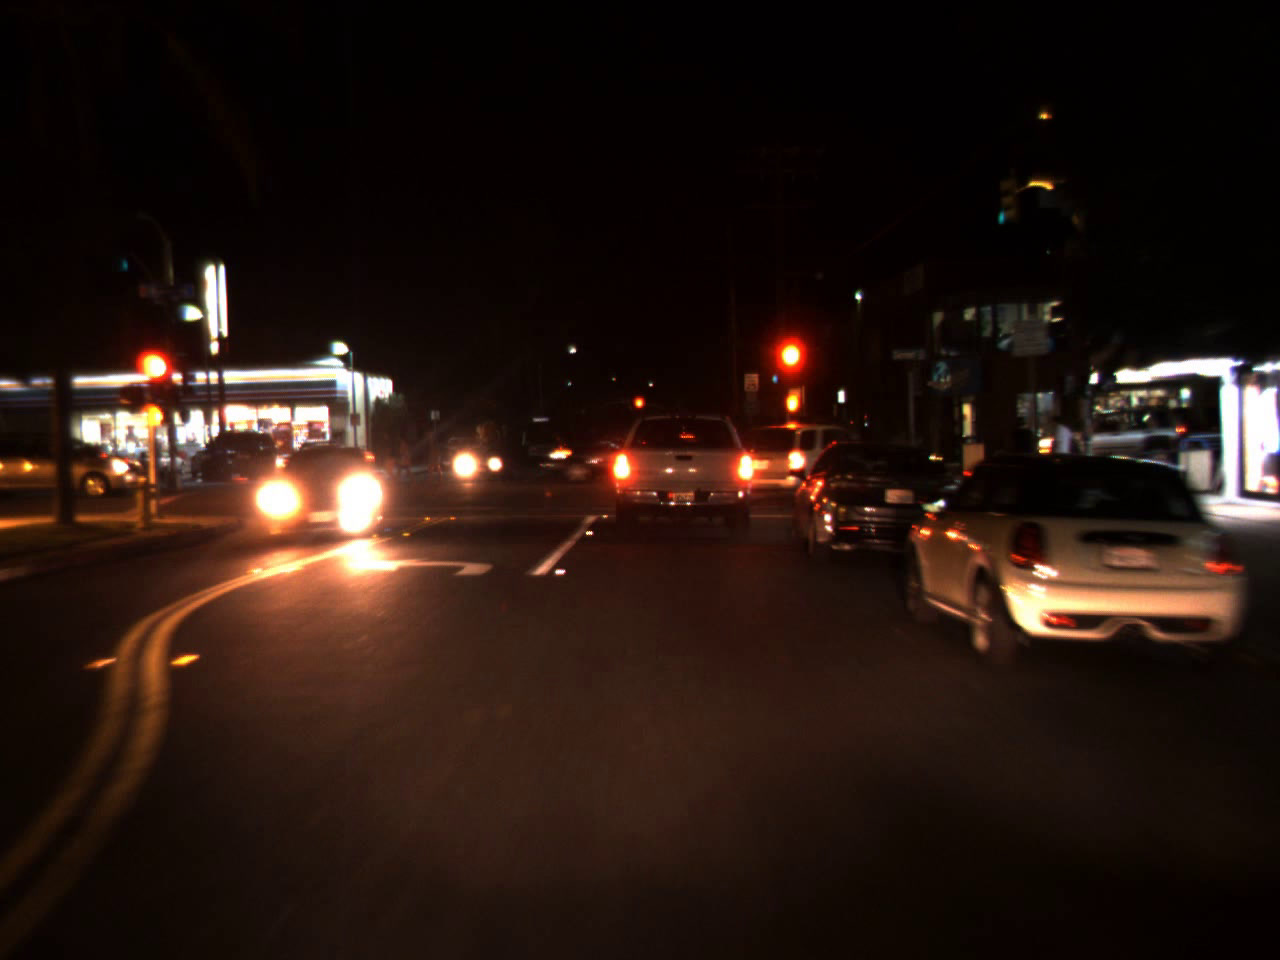stop: (136, 339, 179, 417), (771, 341, 805, 397), (632, 395, 645, 422)
